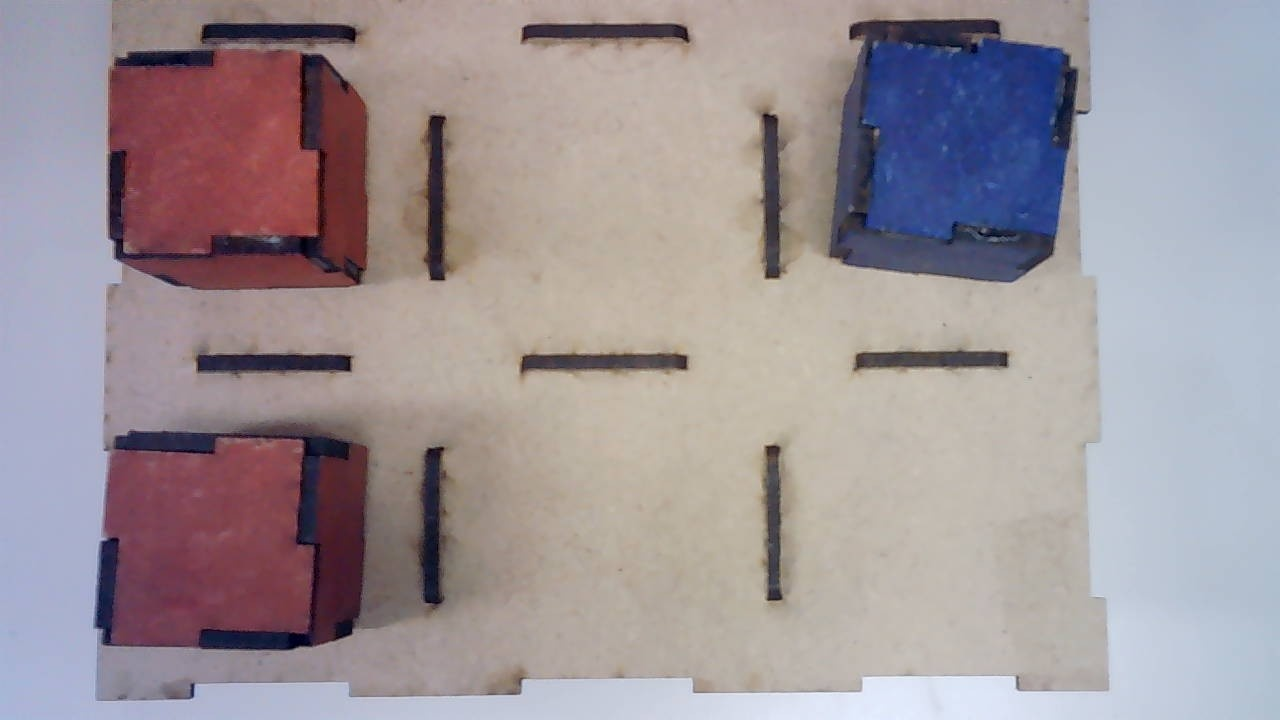blue box: (829, 29, 1077, 287)
red box: (106, 48, 370, 283), (97, 432, 361, 648)
